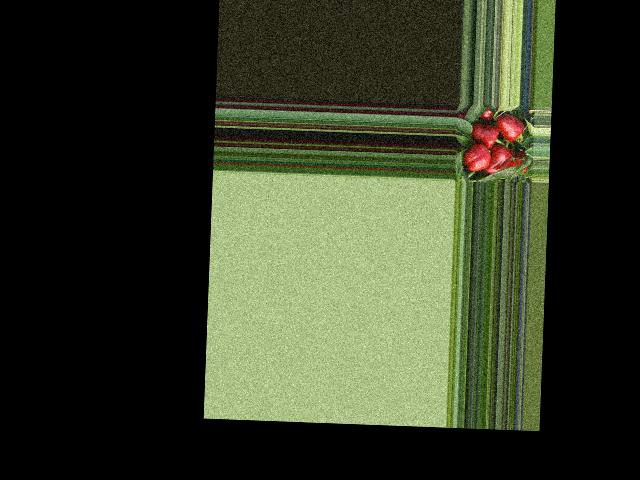bell_pepper: (463, 136, 491, 174)
